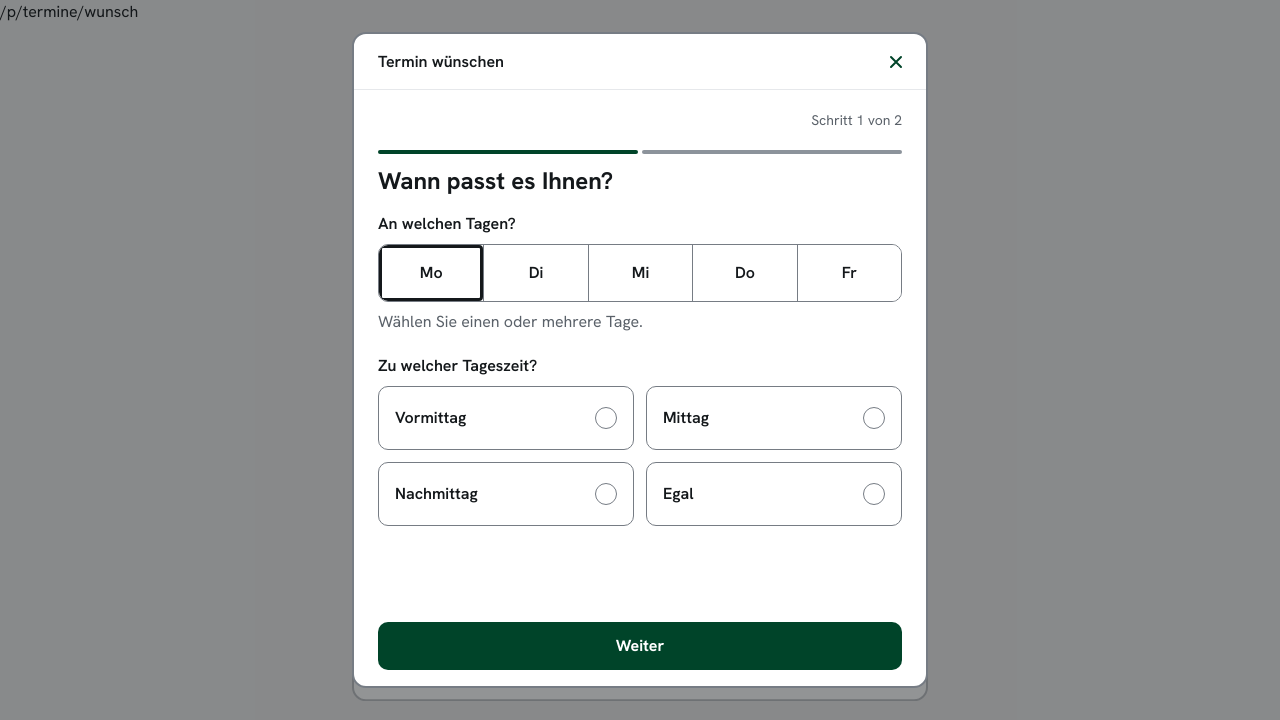
Test: Terminwunsch (POR-009, Schritt 3d) › verlangt mindestens einen Tag, bevor es weitergeht
Click the 2nd button "Weiter". click: (640, 646)
box: [378,622,902,670]
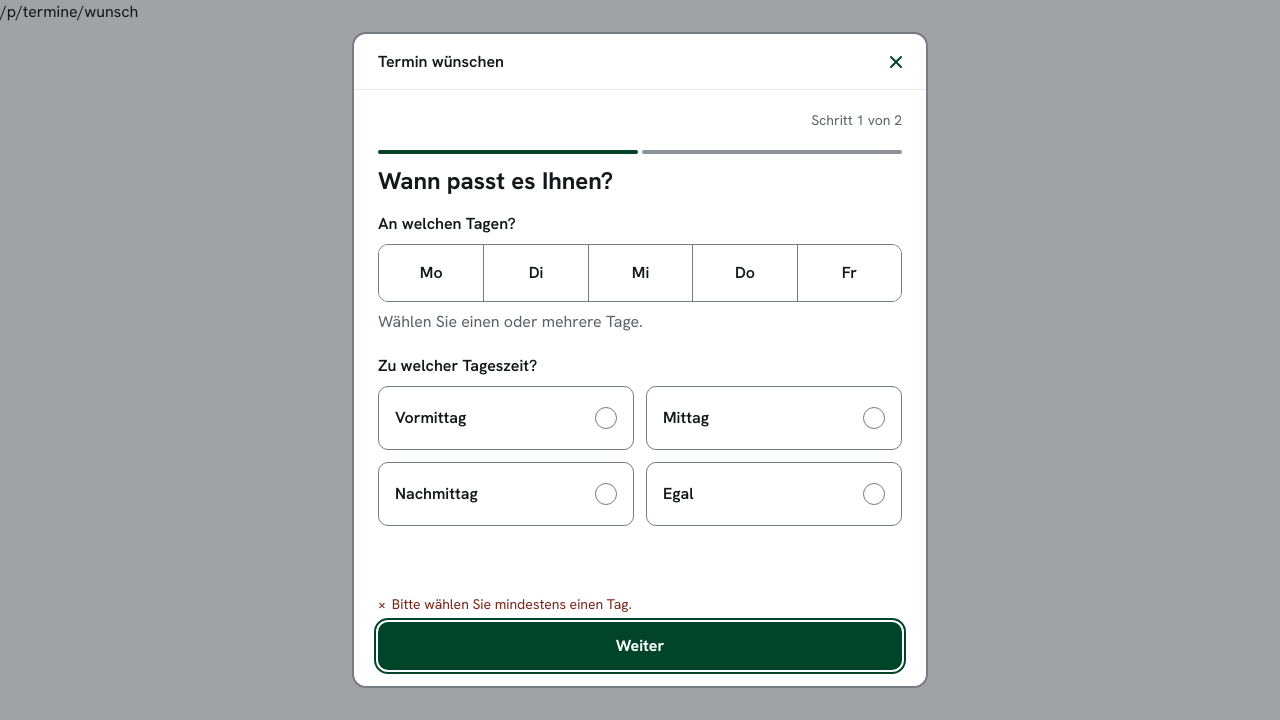
Check: the dialog "Wann passt es Ihnen?" is shown, box [352,32,928,688]
Check: the message "×Bitte wählen Sie mindestens einen Tag." is shown, box [378,595,632,613]
